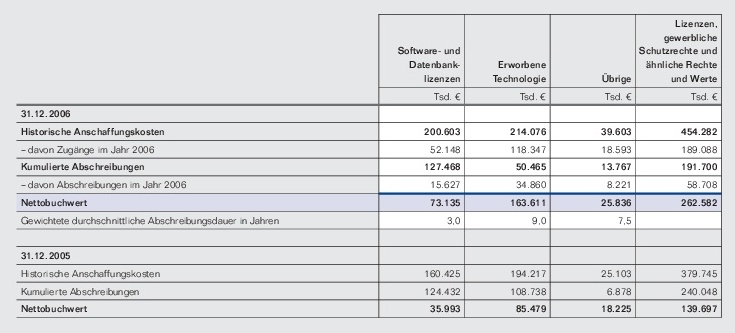table: (0, 0, 735, 333)
